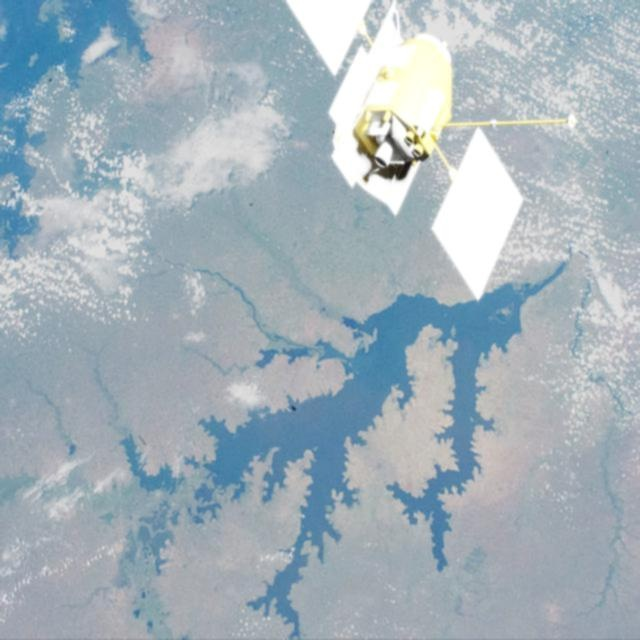satellite: (268, 0, 562, 333)
